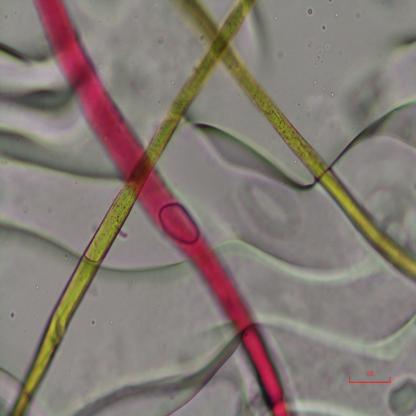Background material: (186, 110, 325, 266), (90, 333, 241, 416), (331, 27, 416, 170), (289, 298, 416, 362), (0, 41, 62, 146), (0, 136, 120, 183), (0, 215, 81, 262), (96, 251, 184, 283), (386, 376, 416, 416), (0, 359, 25, 389)
Microfibre: (35, 0, 292, 416), (10, 0, 250, 416), (187, 5, 416, 279)
